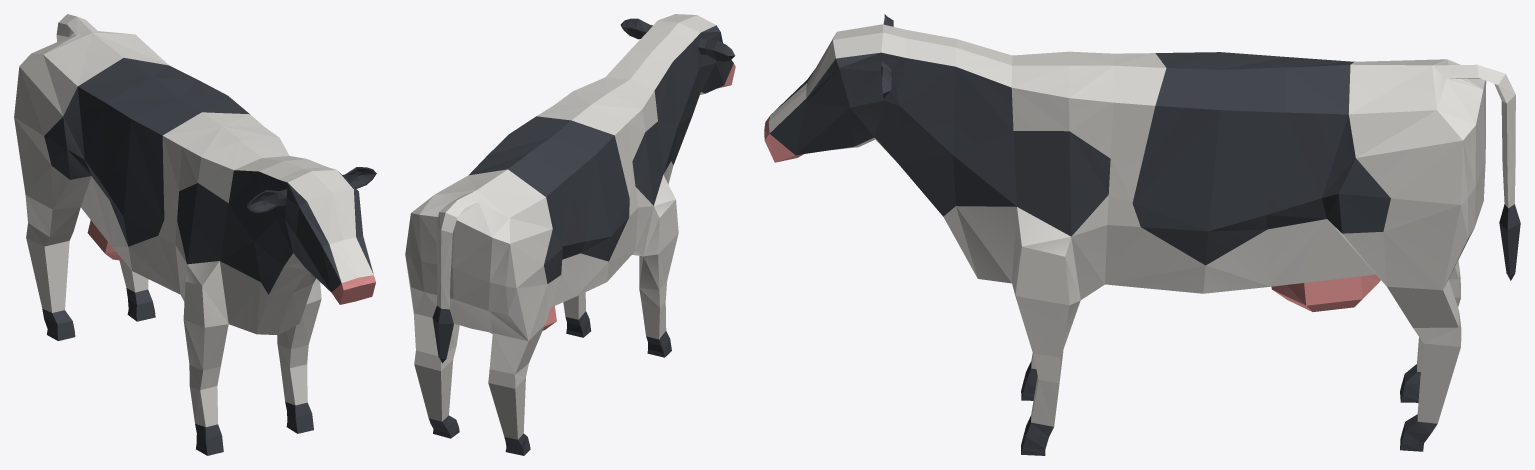
The model's file is cow.glb.
3 renders of one model, left to right at view 1: azimuth 30°, elevation 25°; view 2: azimuth 150°, elevation 25°; view 3: azimuth 270°, elevation 25°, orthographic. The views are drawn at different scales.
Visible parts, largest first — view 1: cow; view 2: cow; view 3: cow.
Boxes of the visible parts, x1=… form: cow: x1=14, y1=14, x2=376, y2=455; cow: x1=405, y1=14, x2=735, y2=455; cow: x1=764, y1=14, x2=1520, y2=455.
Size of the model in its own units: 0.5615 by 1.24 by 2.2.
